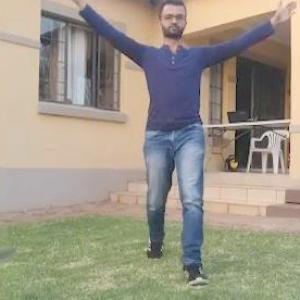takeoff: (75, 0, 299, 284)
